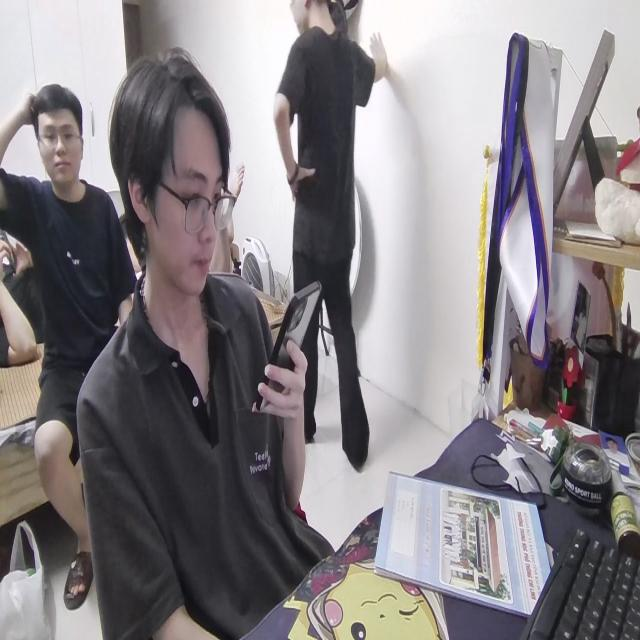book: (376, 467, 554, 626)
extra_person: (1, 78, 145, 626), (274, 0, 391, 469)
phone: (255, 278, 325, 413)
student: (72, 39, 334, 640)
